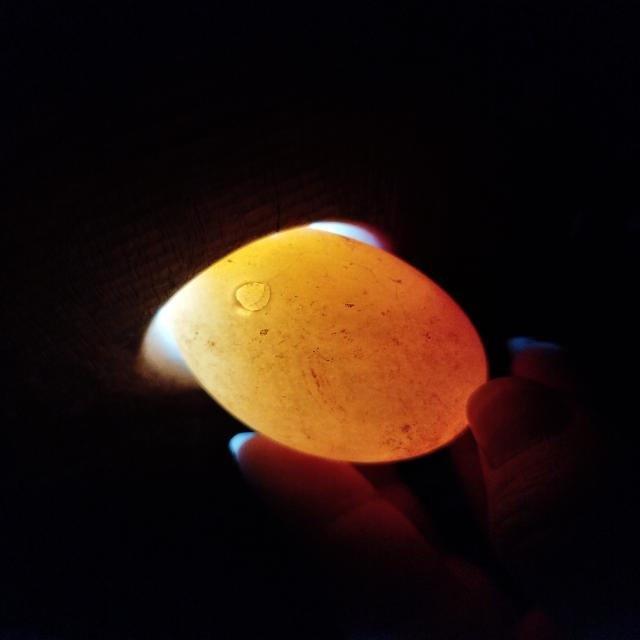Rachadura: (236, 282, 270, 311)
